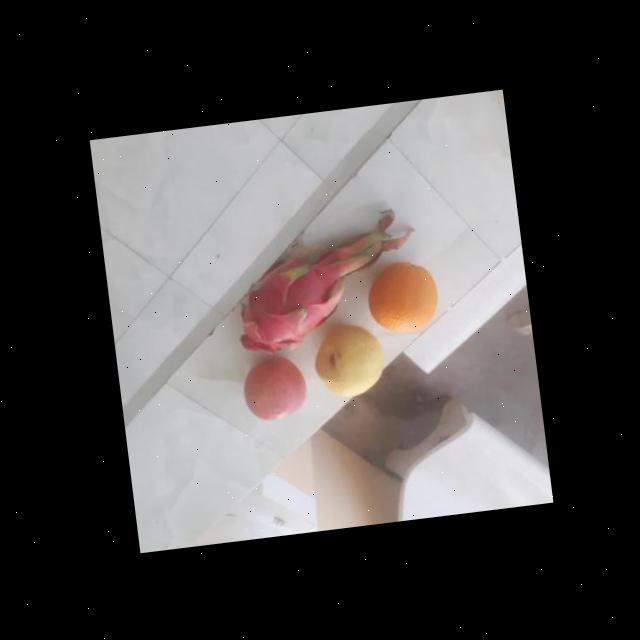apple: (236, 354, 310, 424)
orange: (360, 258, 440, 338)
pear: (306, 321, 388, 398)
pitaya: (230, 253, 343, 354)
